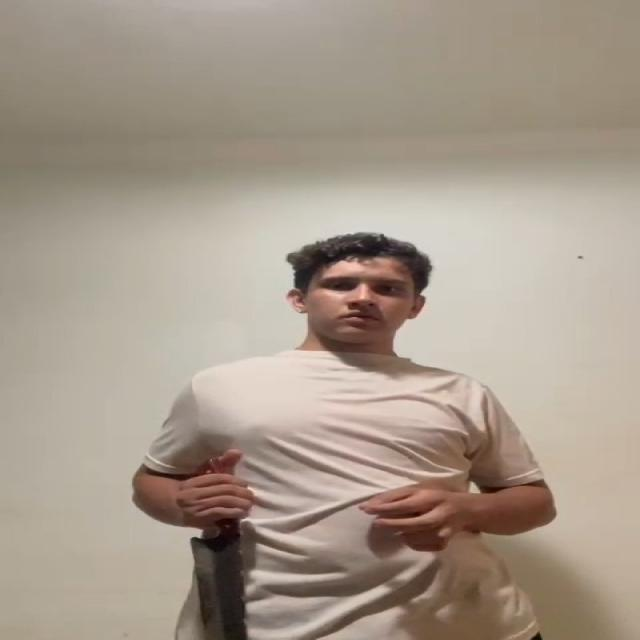knife: (189, 534, 248, 640)
